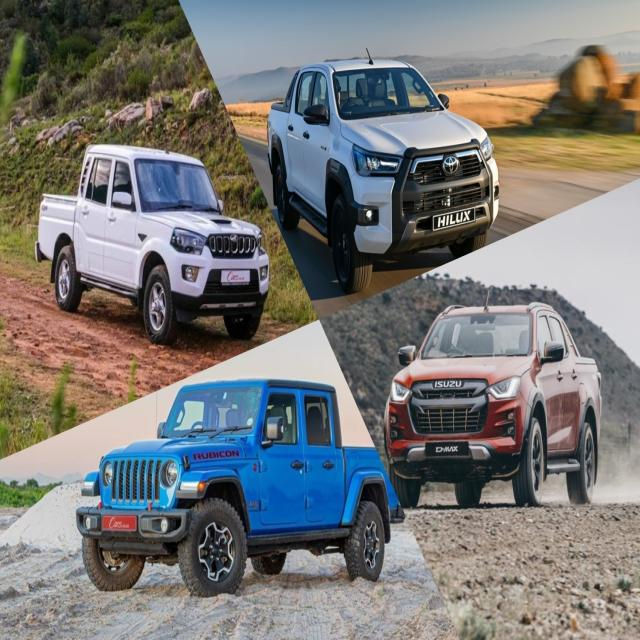Pickup Trucks: (74, 380, 406, 598), (267, 57, 499, 293), (35, 145, 270, 343), (384, 303, 604, 506)
